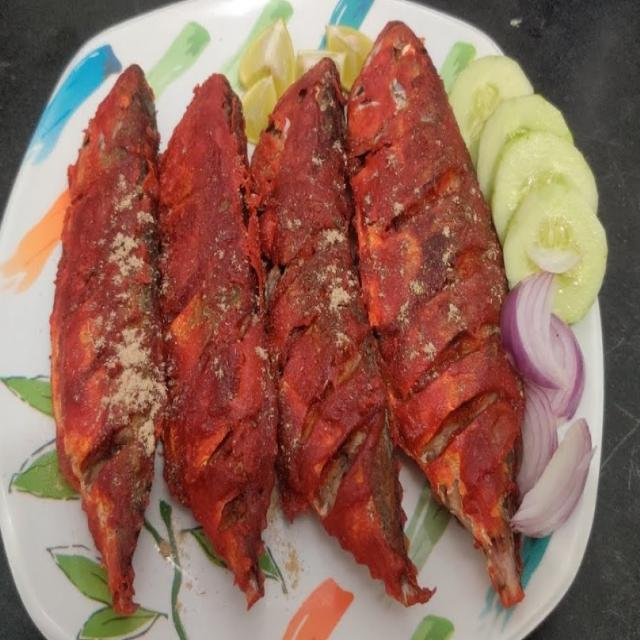FISH FRY: (50, 21, 524, 613)
